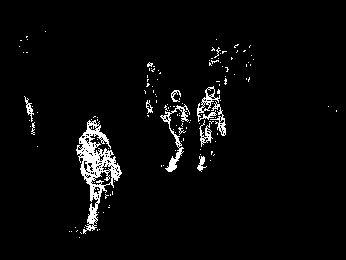person: (76, 116, 122, 231), (195, 87, 228, 174), (163, 89, 190, 172)
